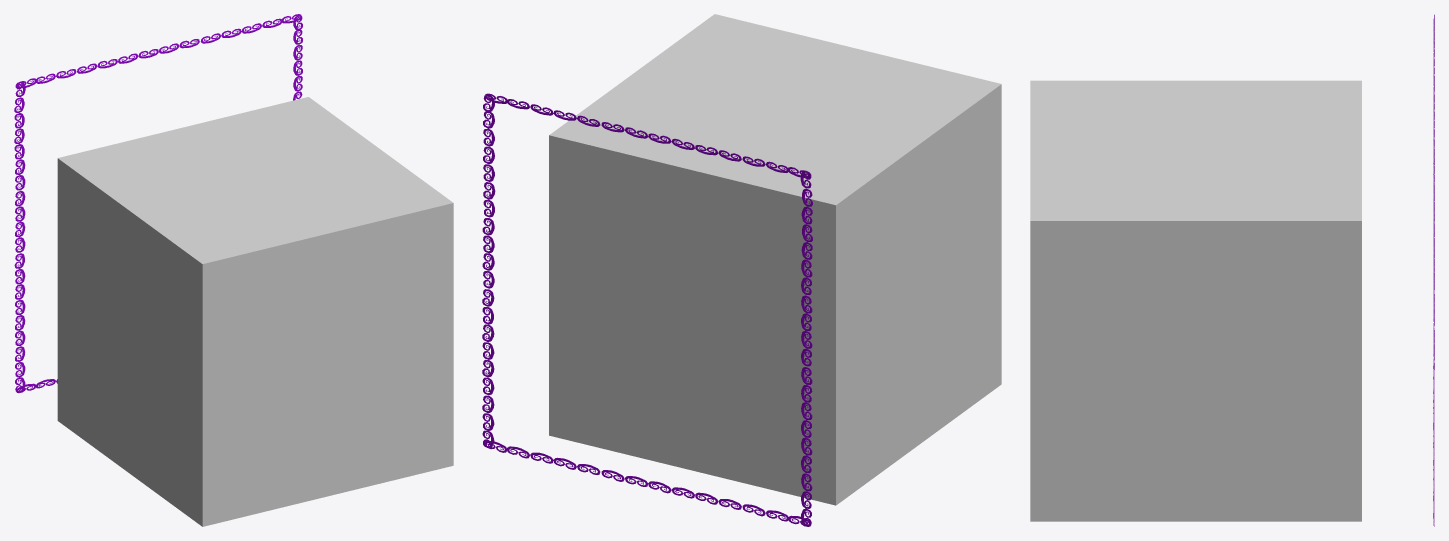
File: frame.glb
The picture shows the model from 3 angles, left to right: view 1: azimuth 30°, elevation 25°; view 2: azimuth 150°, elevation 25°; view 3: azimuth 270°, elevation 25°; orthographic projection. The views are drawn at different scales.
Parts seen in each view (by area): view 1: Cube, CurlyBorder; view 2: Cube, CurlyBorder; view 3: Cube, CurlyBorder.
Part boxes in pixels (x1,y1,x2,y2): Cube: [57, 97, 453, 526]; CurlyBorder: [14, 14, 302, 393]; Cube: [549, 14, 1001, 505]; CurlyBorder: [482, 93, 812, 526]; Cube: [1030, 80, 1361, 521]; CurlyBorder: [1433, 14, 1434, 526].
Bounding box in the file's own units: 2.31 × 2.42 × 2.44.
